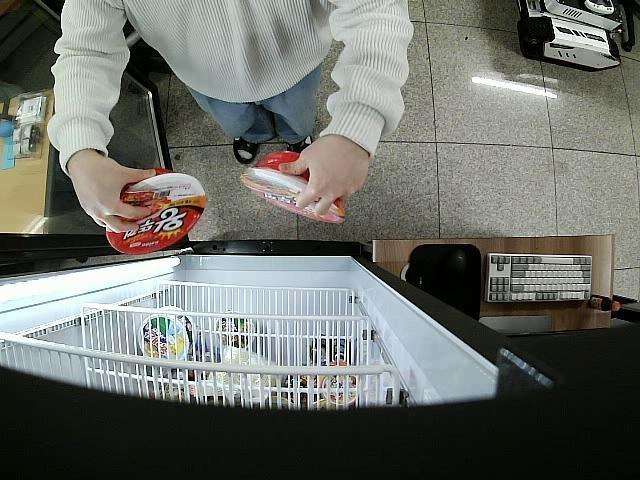10_wangTtukkeong: (107, 166, 206, 253), (238, 150, 346, 224)
